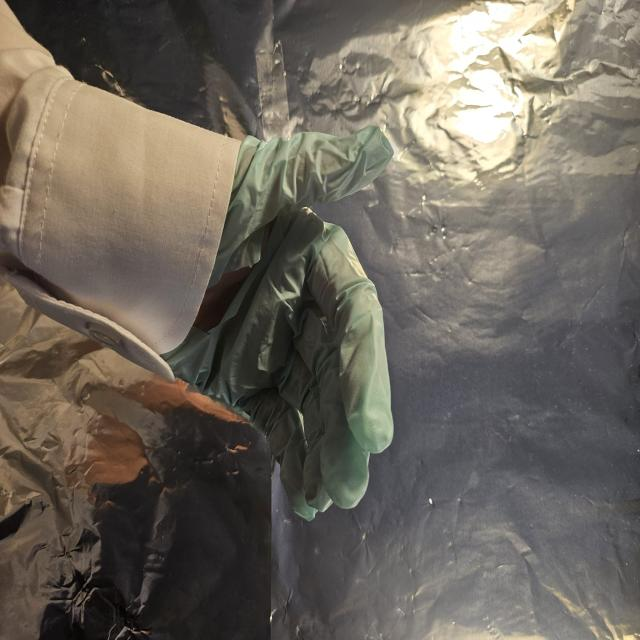gloves_damaged: (166, 122, 392, 524)
